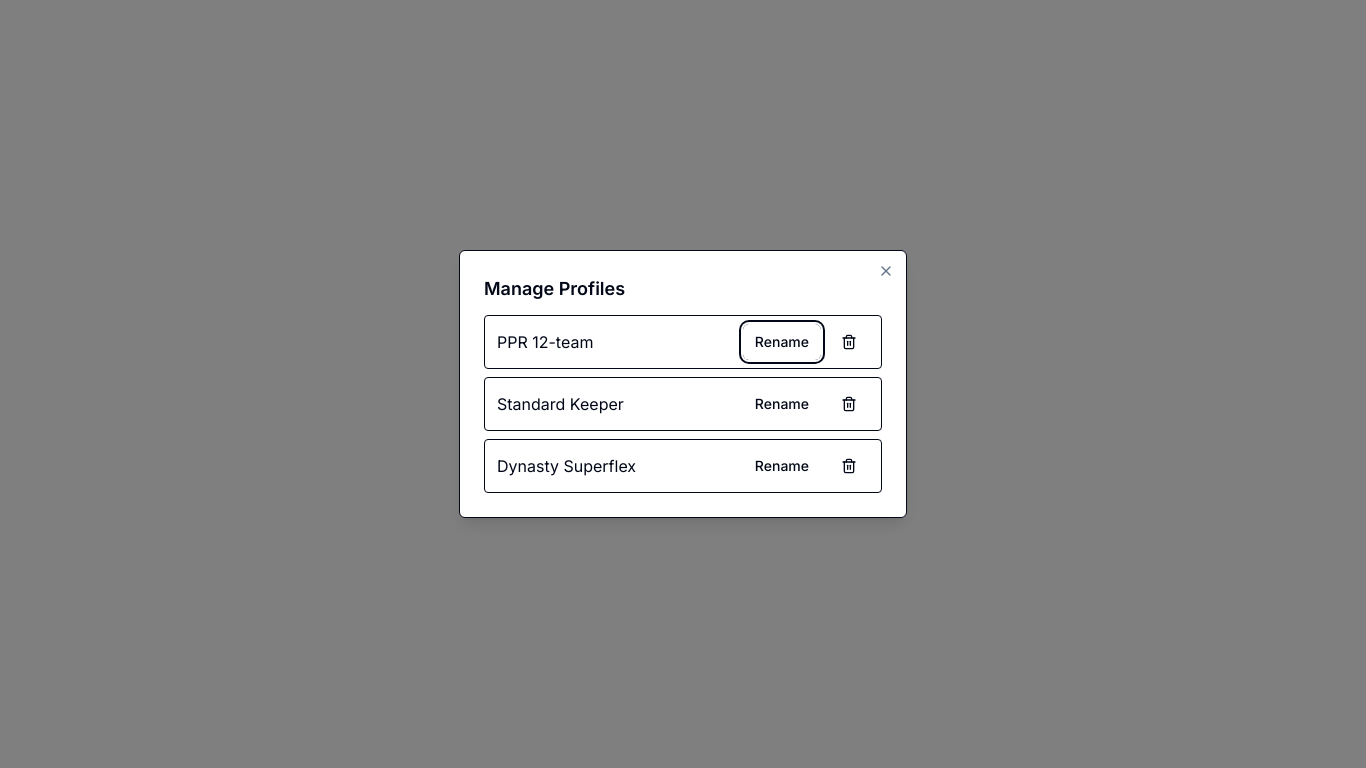
Test: ProfileManagerDialog › Cancel during rename reverts back to the read-only row
The width and height of the screenshot is (1366, 768).
Click the button "Rename" next to "PPR 12-team".
click(782, 342)  # box left=743, top=324, right=821, bottom=360
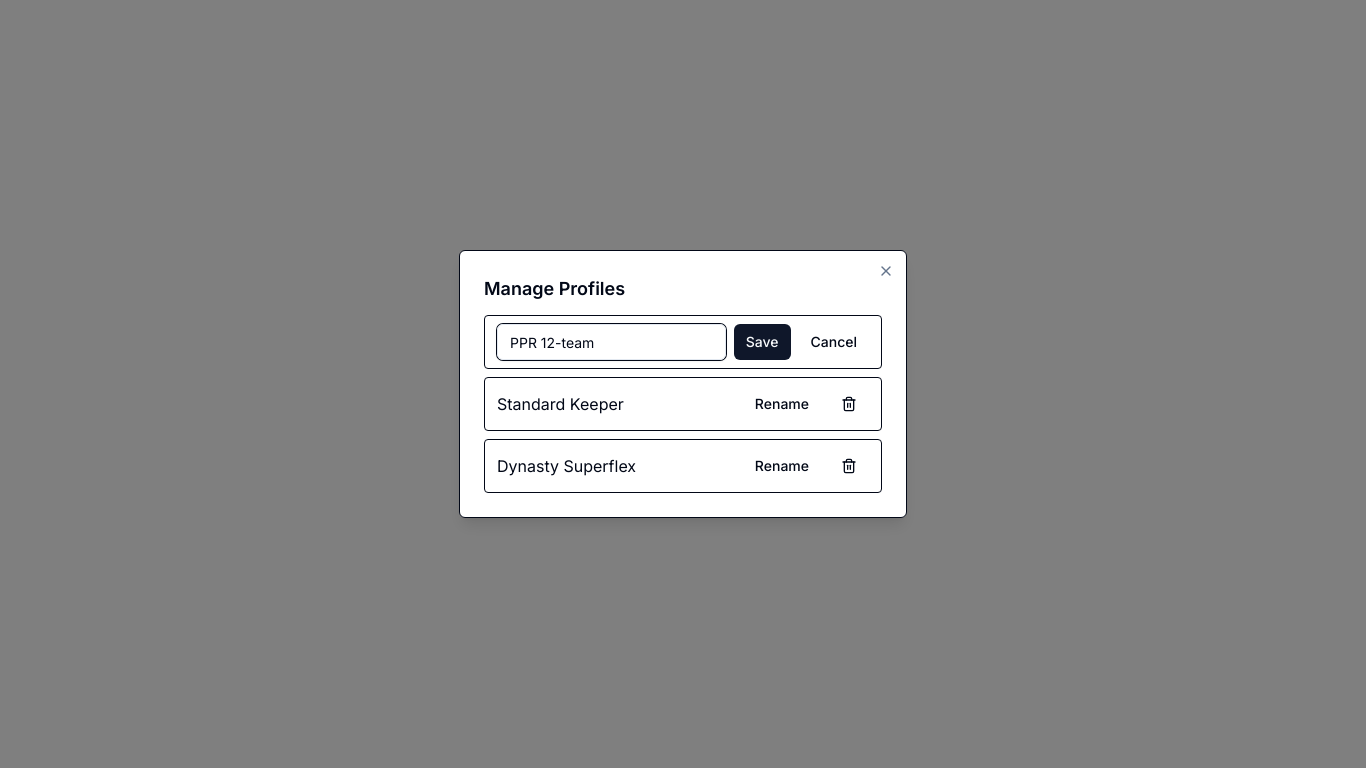
Click the button "Cancel".
click(834, 342)  # box left=798, top=324, right=869, bottom=360
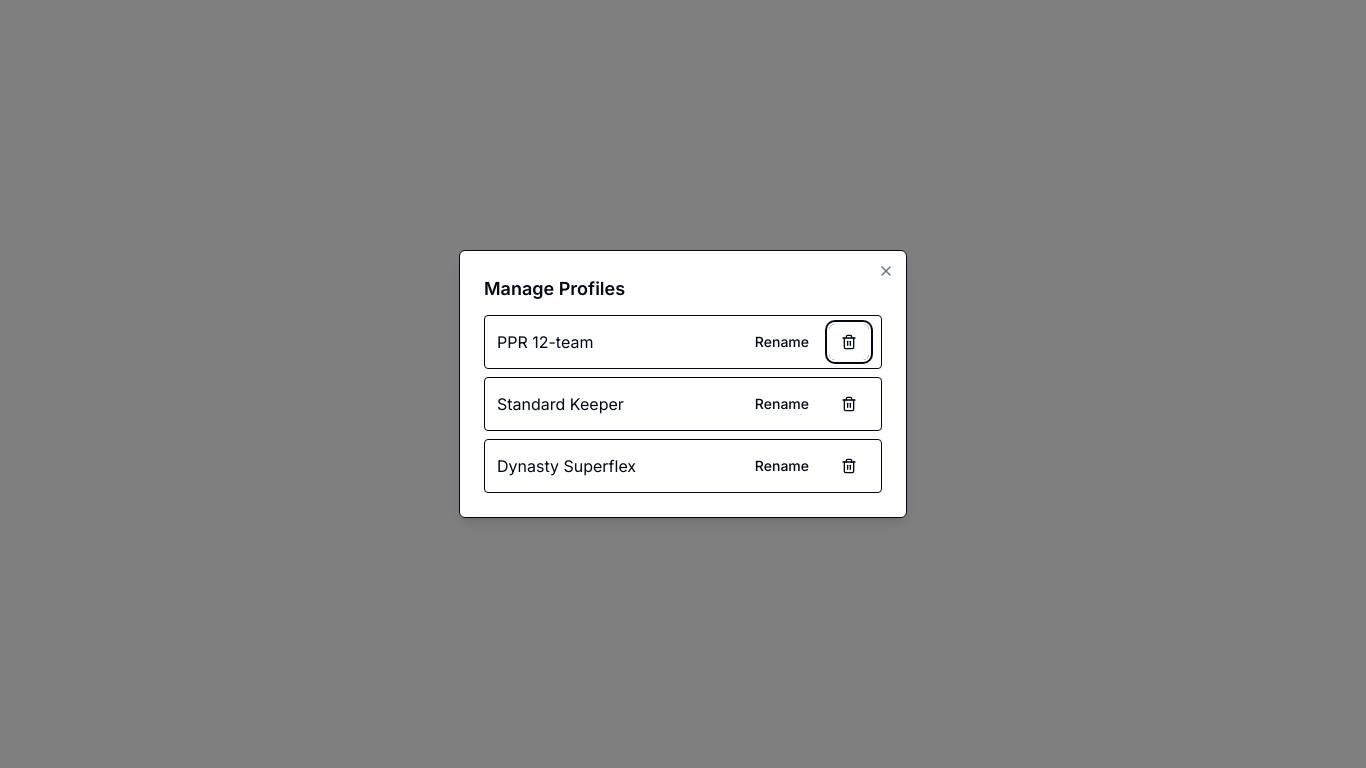
Result: the text "PPR 12-team" is shown at left=497, top=330, right=593, bottom=354
